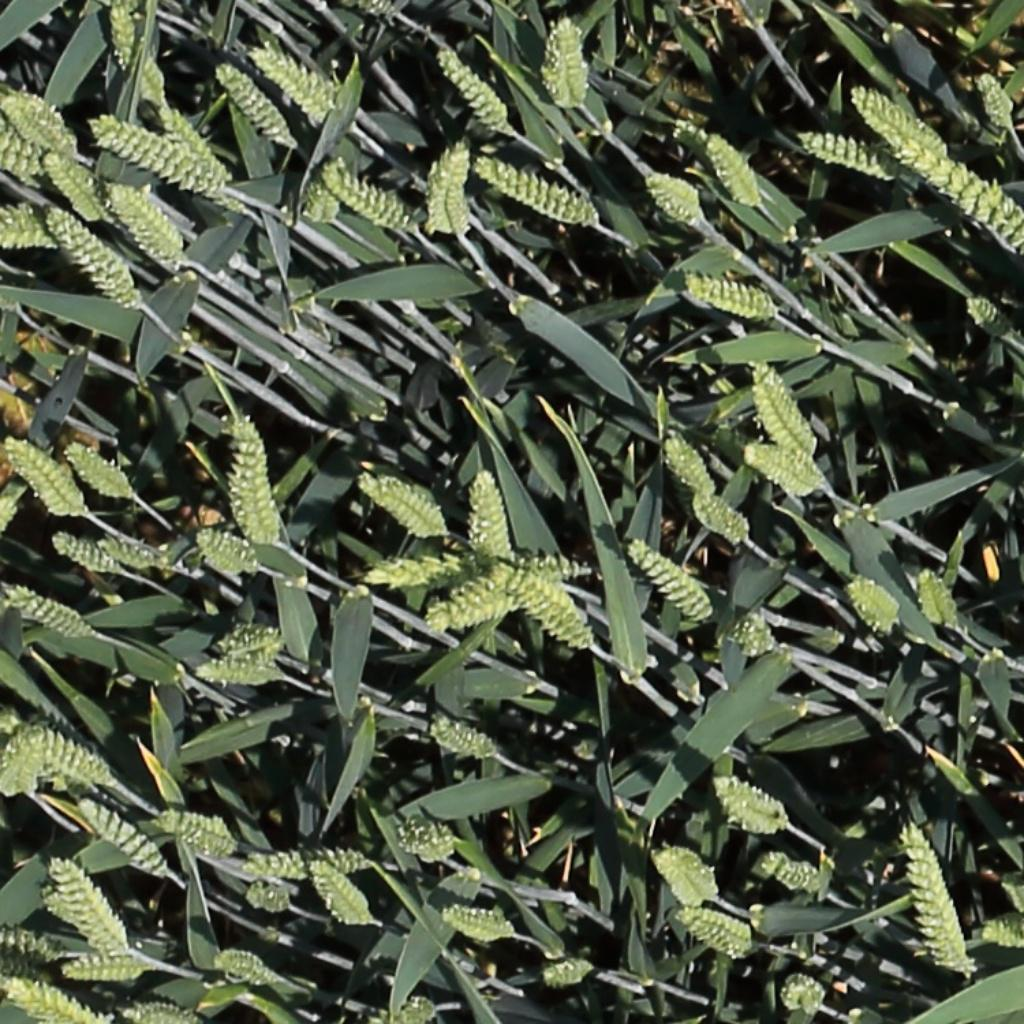0-0: (890, 136, 1024, 260), (899, 815, 981, 978), (44, 205, 149, 316), (84, 111, 224, 194), (472, 155, 601, 231), (247, 46, 358, 134), (0, 707, 120, 787), (48, 853, 134, 957), (210, 60, 300, 152), (844, 83, 950, 161), (225, 409, 284, 546), (74, 796, 171, 879), (417, 563, 526, 635), (623, 537, 711, 625), (433, 46, 515, 139), (746, 356, 819, 460), (3, 435, 90, 519), (102, 182, 187, 267), (156, 101, 237, 186), (0, 81, 83, 162), (356, 469, 450, 537), (318, 161, 409, 229), (797, 128, 907, 184), (669, 903, 764, 964), (1, 975, 112, 1024), (540, 15, 593, 117), (704, 129, 764, 217), (307, 855, 377, 929), (737, 442, 826, 499), (421, 143, 472, 241), (524, 585, 598, 652), (681, 274, 783, 322), (647, 843, 722, 908), (42, 153, 112, 221), (512, 571, 595, 628), (710, 772, 792, 829), (244, 846, 376, 881), (4, 587, 91, 640), (150, 805, 237, 858), (465, 467, 513, 558), (658, 428, 716, 503), (60, 441, 131, 499), (358, 553, 468, 588), (0, 202, 71, 256), (844, 575, 905, 637), (642, 169, 704, 230), (0, 720, 47, 799), (213, 620, 289, 666), (192, 526, 260, 576), (438, 901, 517, 944), (392, 814, 460, 863), (190, 656, 285, 691), (689, 491, 749, 546), (60, 951, 151, 986), (972, 69, 1018, 138), (915, 566, 962, 633), (0, 114, 47, 179), (718, 794, 789, 836), (49, 532, 118, 574), (727, 611, 783, 660), (516, 551, 604, 582), (425, 719, 491, 760), (128, 49, 167, 111), (963, 293, 1015, 339), (301, 172, 344, 227), (107, 0, 138, 76), (39, 761, 99, 799), (0, 926, 65, 961), (779, 972, 826, 1018), (668, 110, 710, 161), (95, 538, 162, 569), (240, 880, 296, 915), (117, 1002, 203, 1024), (978, 911, 1024, 952), (539, 956, 596, 989), (774, 860, 826, 892), (386, 993, 439, 1024), (38, 882, 75, 926), (226, 959, 283, 986), (211, 947, 267, 973), (0, 494, 25, 536), (759, 847, 794, 873)
